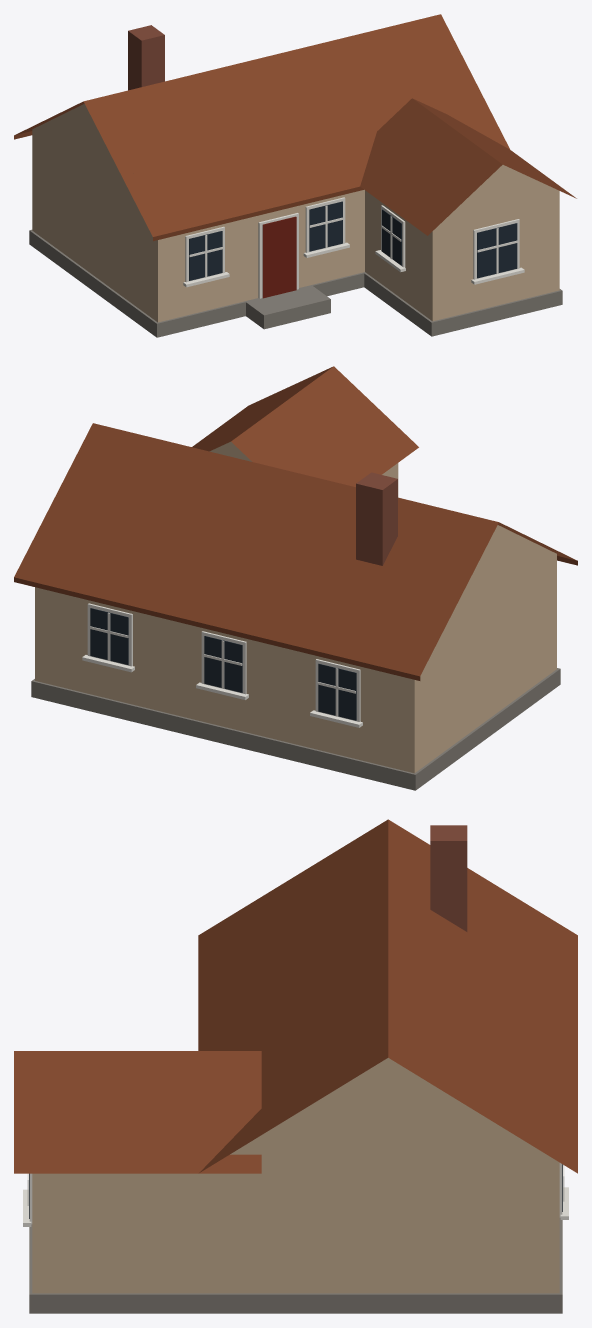
Rendered from house2.glb.
3 renders of one model, top to bottom at view 1: azimuth 30°, elevation 25°; view 2: azimuth 150°, elevation 25°; view 3: azimuth 270°, elevation 25°, orthographic. The views are drawn at different scales.
Visible parts, largest first — view 1: house; view 2: house; view 3: house.
Part boxes in pixels (left/top/right/bottom): house: left=14, top=14, right=576, bottom=337; house: left=14, top=366, right=577, bottom=790; house: left=14, top=819, right=577, bottom=1313.
Bounding box in the file's own units: 10.7 × 6.39 × 10.7.
